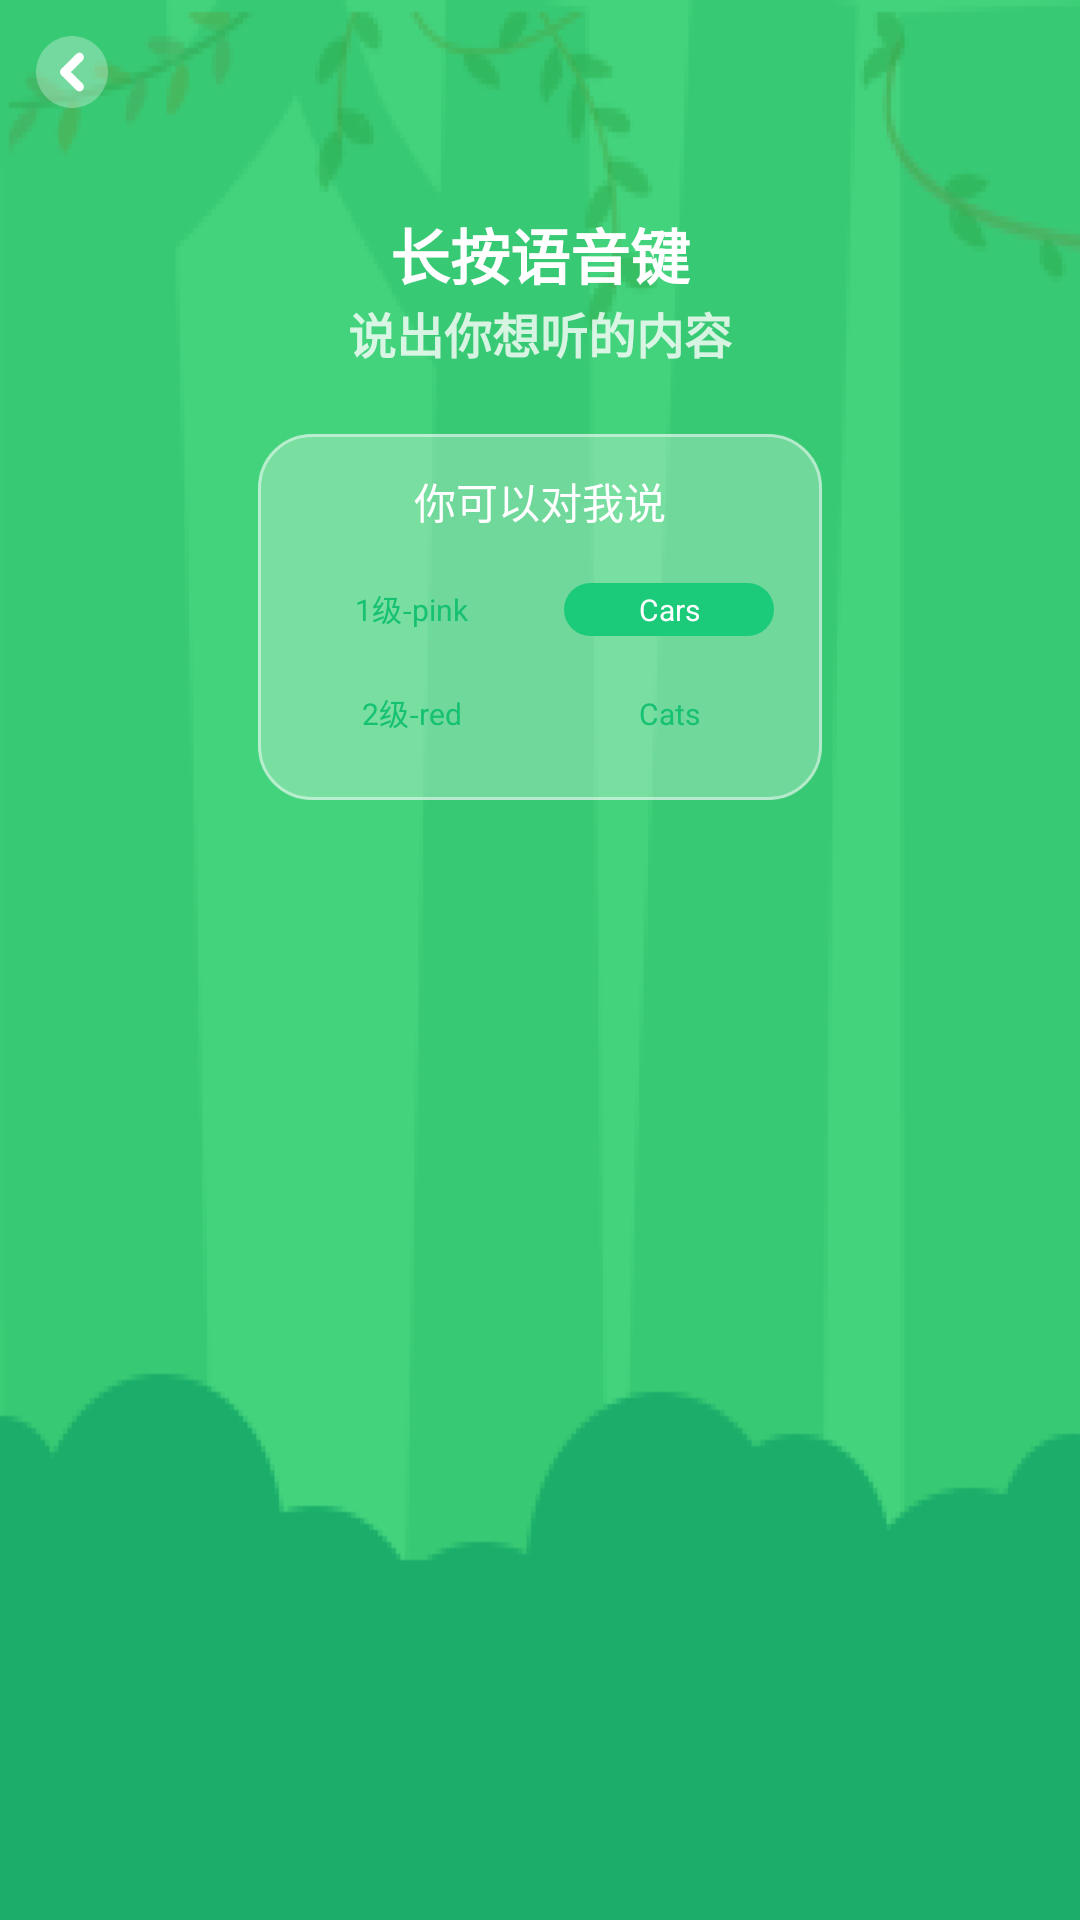

Icon click points for this 1080 × 1920 phone screenshot, format (x=x, y=y):
back: (x=83, y=72)
